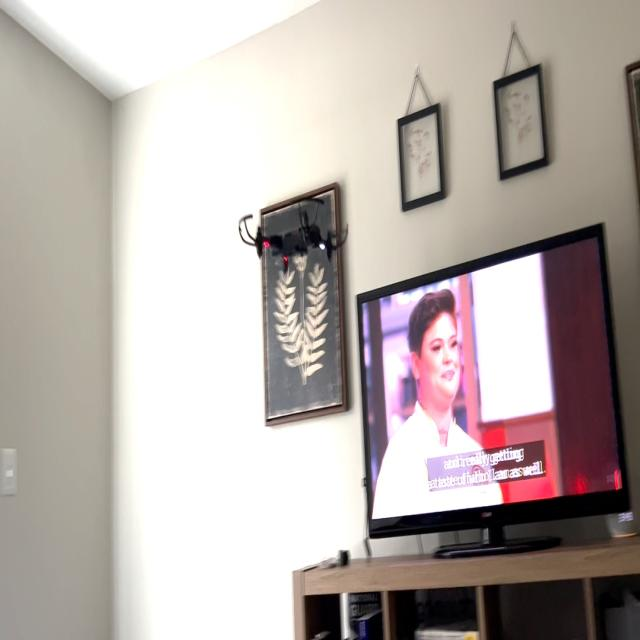drone: (232, 187, 356, 275)
